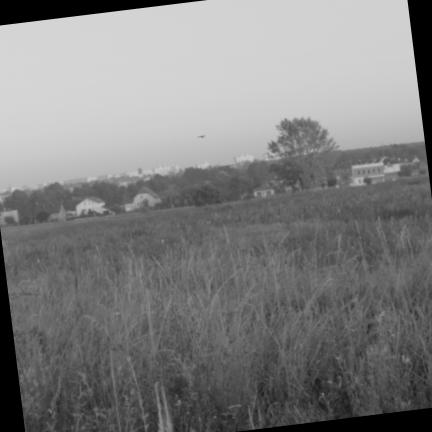Shahed: (197, 135, 205, 137)
